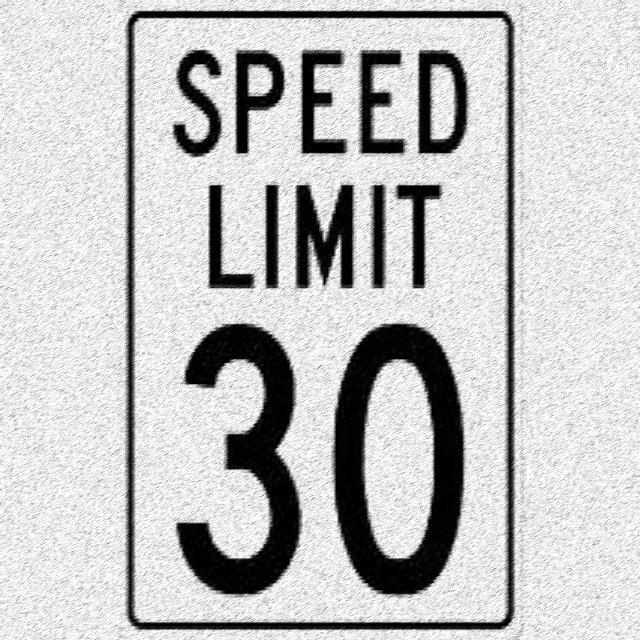speedLimit30: (120, 9, 520, 635)
